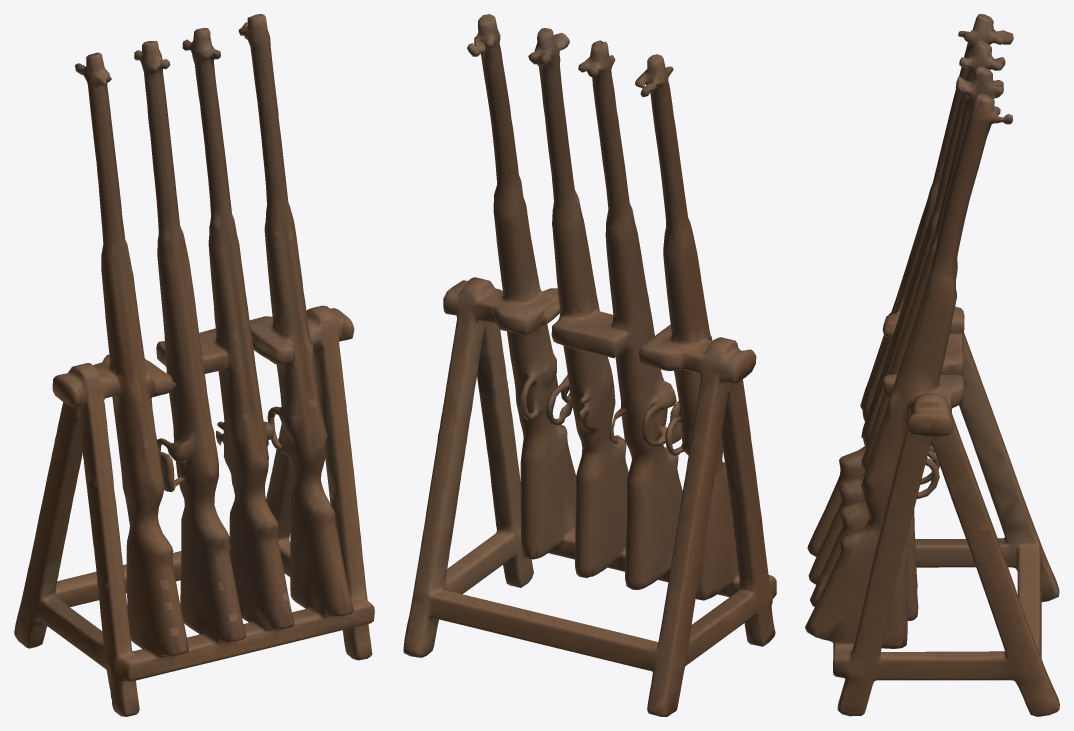
The model's file is armero.glb.
3 renders of one model, left to right at view 1: azimuth 30°, elevation 25°; view 2: azimuth 150°, elevation 25°; view 3: azimuth 270°, elevation 25°, orthographic. The views are drawn at different scales.
Visible parts, largest first — view 1: temp_mesh.ply; view 2: temp_mesh.ply; view 3: temp_mesh.ply.
Boxes of the visible parts, <box> form: temp_mesh.ply: <box>14,14,374,716</box>; temp_mesh.ply: <box>403,14,776,716</box>; temp_mesh.ply: <box>805,14,1059,716</box>.
Bounding box in the file's own units: 0.7859 × 1.6 × 0.6142.
Materials: 1 (1 with a texture image).
